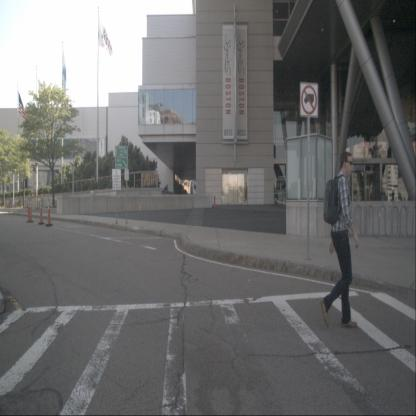human-pedestrian-adult: (321, 151, 359, 329)
movable_object-trafficcone: (46, 197, 53, 227), (38, 198, 44, 225), (28, 199, 34, 223), (26, 196, 31, 223), (212, 188, 216, 208)
